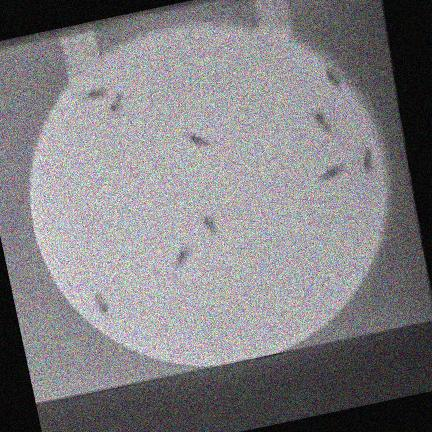fly: (319, 164, 344, 181), (312, 111, 331, 133), (183, 132, 209, 147), (326, 69, 343, 91), (174, 246, 189, 268), (95, 293, 109, 315), (362, 149, 374, 174), (201, 217, 218, 234), (83, 88, 107, 100), (110, 94, 122, 112)
